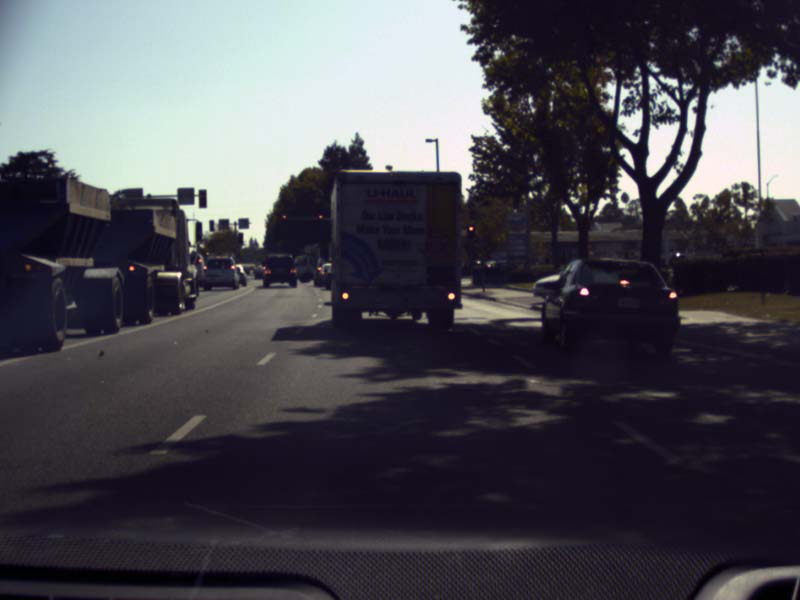Red: (467, 223, 474, 239), (318, 213, 323, 225), (281, 213, 286, 224)
